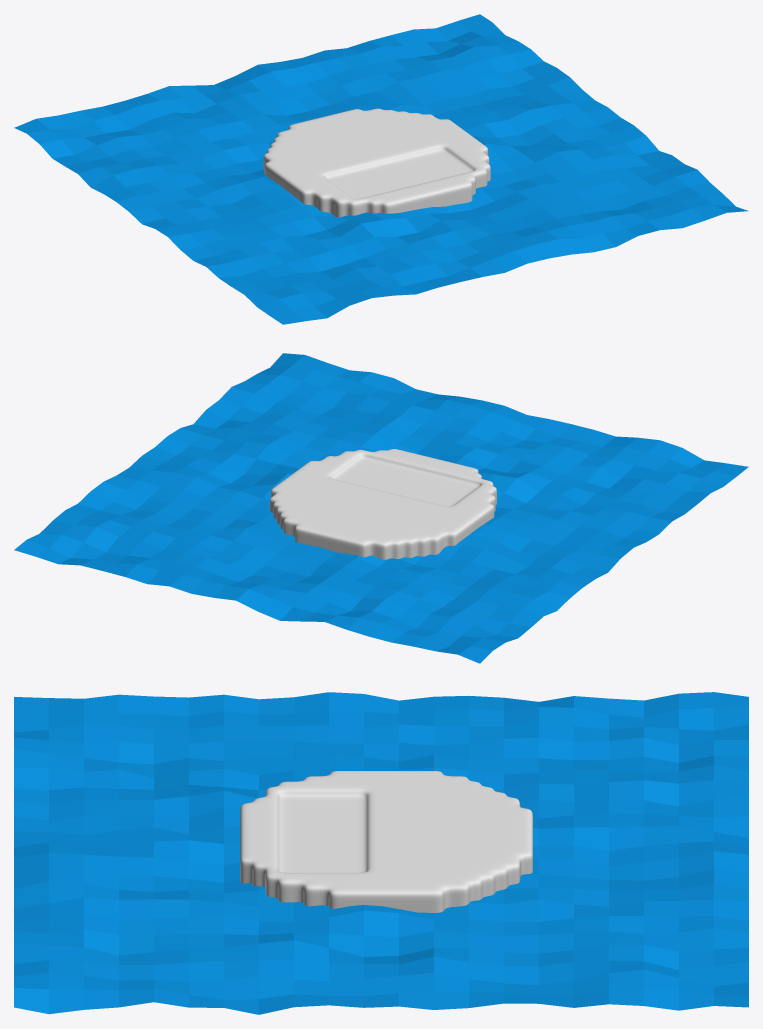
Rendered from map.fbx.
The picture shows the model from 3 angles, top to bottom: view 1: azimuth 30°, elevation 25°; view 2: azimuth 150°, elevation 25°; view 3: azimuth 270°, elevation 25°; orthographic projection. The views are drawn at different scales.
Parts seen in each view (by area): view 1: Plane.001, Plane; view 2: Plane.001, Plane; view 3: Plane.001, Plane.
Part boxes in pixels (left/top/right/bottom): Plane.001: left=14, top=14, right=747, bottom=324; Plane: left=263, top=108, right=490, bottom=217; Plane.001: left=14, top=353, right=748, bottom=663; Plane: left=269, top=449, right=496, bottom=559; Plane.001: left=14, top=692, right=748, bottom=1014; Plane: left=240, top=771, right=532, bottom=912.
Size of the model in its own units: 5774 by 275 by 5774.
